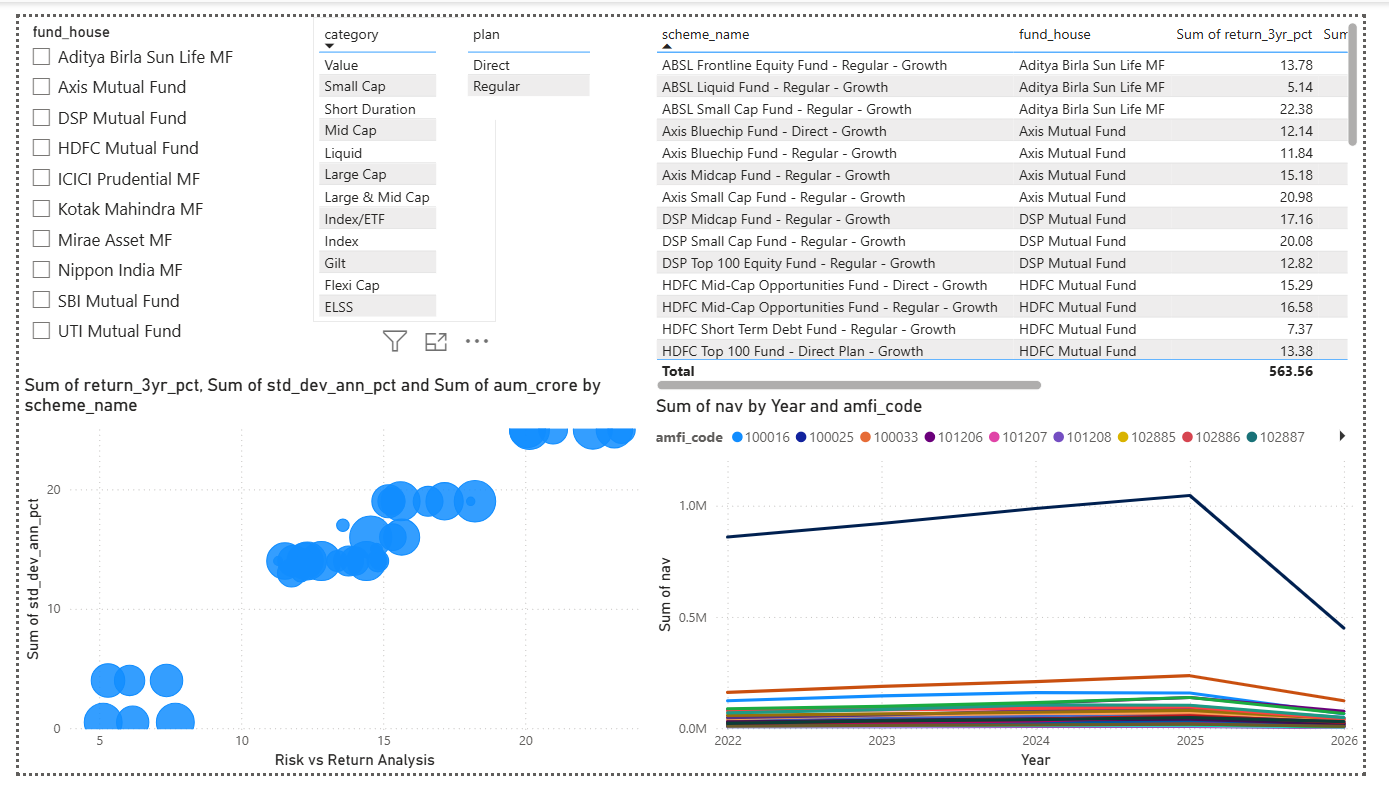

This screenshot's page, from the dashboard's own definition file:
{"tool":"powerbi","page":{"name":"Fund Performance","canvas":[1280,720],"ordinal":1},"visuals":[{"type":"scatterChart","fields":{"X":["Sum(07_scheme_performance_cleaned.return_3yr_pct)"],"Y":["Sum(07_scheme_performance_cleaned.std_dev_ann_pct)"],"Size":["Sum(07_scheme_performance_cleaned.aum_crore)"],"Category":["07_scheme_performance_cleaned.scheme_name"]},"box":[0,340,602,380],"z":0},{"type":"tableEx","fields":{"Values":["07_scheme_performance_cleaned.scheme_name","07_scheme_performance_cleaned.fund_house","Sum(07_scheme_performance_cleaned.return_3yr_pct)","Sum(07_scheme_performance_cleaned.alpha)","Sum(07_scheme_performance_cleaned.sharpe_ratio)","Sum(07_scheme_performance_cleaned.max_drawdown_pct)","Sum(07_scheme_performance_cleaned.expense_ratio_pct)"]},"box":[602,0,678,360],"z":1000},{"type":"slicer","fields":{"Values":["07_scheme_performance_cleaned.fund_house"]},"box":[0,0,280,340],"z":2000},{"type":"tableEx","fields":{"Values":["07_scheme_performance_cleaned.category"]},"box":[280,0,174,290],"z":3000},{"type":"tableEx","fields":{"Values":["07_scheme_performance_cleaned.plan"]},"box":[422,0,132,98],"z":4000},{"type":"lineChart","fields":{"Category":["02_nav_history_cleaned.date.Variation.Date Hierarchy.Year","02_nav_history_cleaned.date.Variation.Date Hierarchy.Quarter","02_nav_history_cleaned.date.Variation.Date Hierarchy.Month","02_nav_history_cleaned.date.Variation.Date Hierarchy.Day"],"Y":["Sum(02_nav_history_cleaned.nav)"],"Series":["02_nav_history_cleaned.amfi_code"]},"box":[602,360,678,360],"z":4001}]}

Visuals, with their boxes in screenshot pixels (x1, y1, x2, y2), scaled from the page's 1280x720 canvas onto the 1389x799 screenshot:
scatterChart - Sum(07_scheme_performance_cleaned.return_3yr_pct) x Sum(07_scheme_performance_cleaned.std_dev_ann_pct): 0,377,653,798
tableEx - 07_scheme_performance_cleaned.scheme_name x 07_scheme_performance_cleaned.fund_house: 653,0,1388,400
slicer - 07_scheme_performance_cleaned.fund_house: 0,0,304,377
tableEx - 07_scheme_performance_cleaned.category: 304,0,493,322
tableEx - 07_scheme_performance_cleaned.plan: 458,0,601,109
lineChart - 02_nav_history_cleaned.date.Variation.Date Hierarchy.Year x 02_nav_history_cleaned.date.Variation.Date Hierarchy.Quarter: 653,400,1388,798
